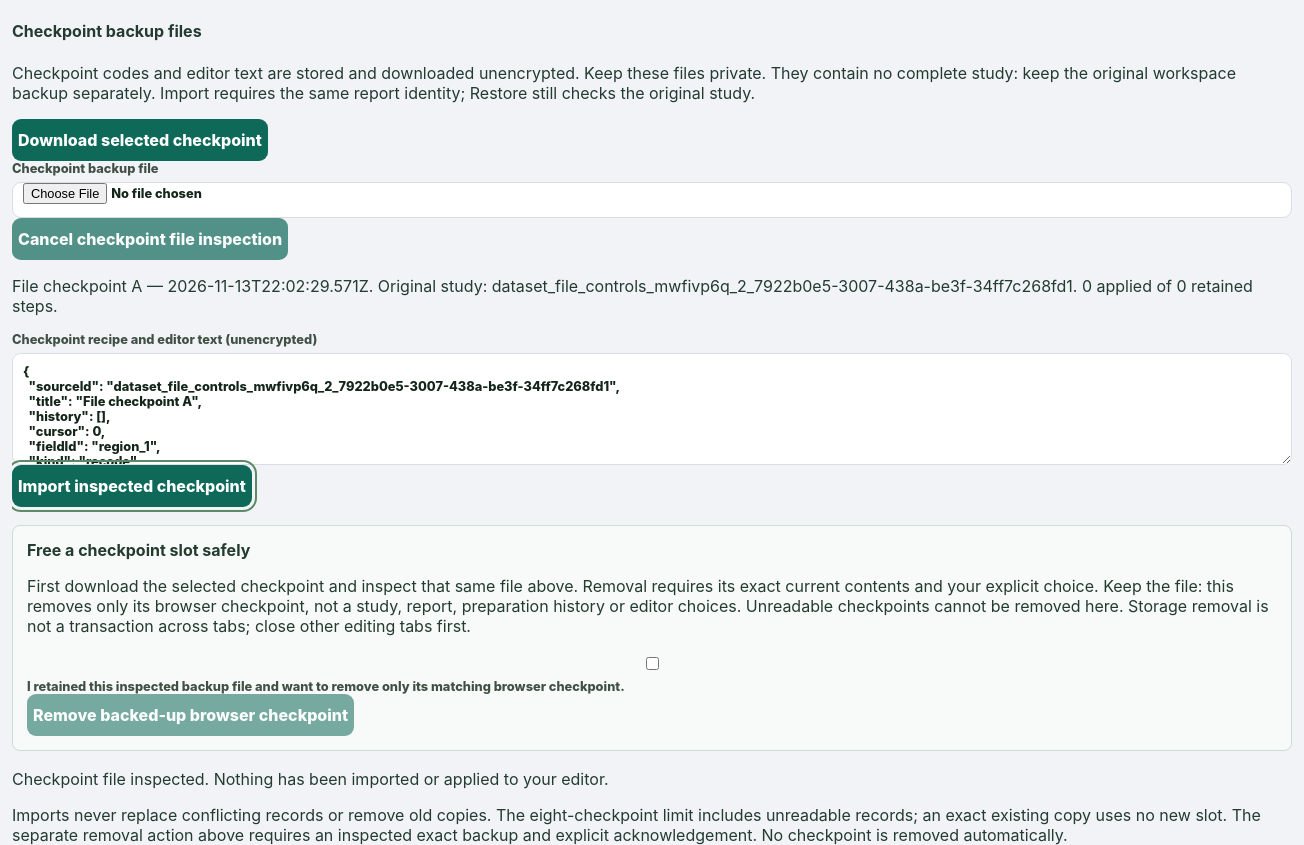
Test case: inspects a real File without automatic import, then imports a separate copy only on explicit action
Earlier steps of the test are not shown.
Step 1. Click the button "Import inspected checkpoint" → click(132, 486), box top-left (12, 464), bottom-right (252, 506)
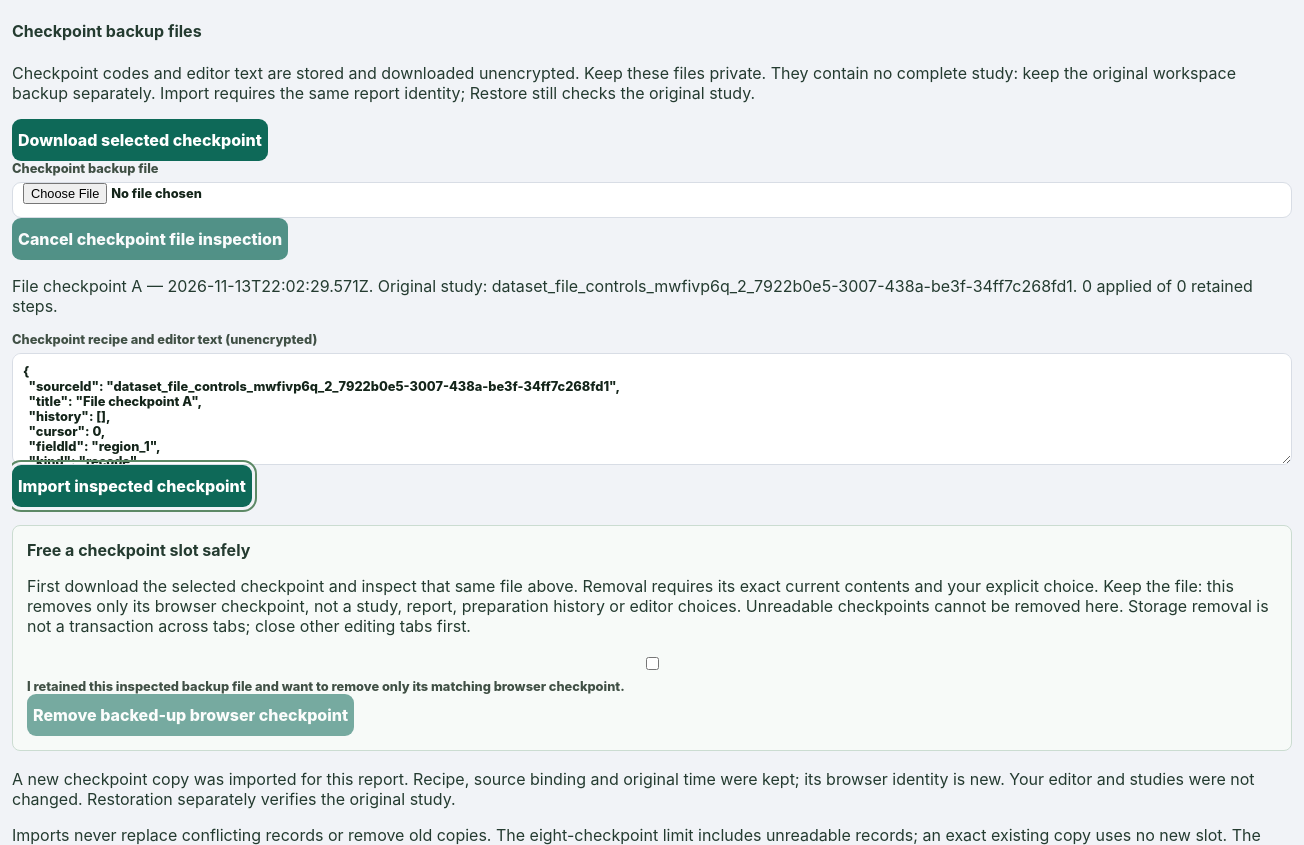
Step 2. Click the button "Import inspected checkpoint" → click(132, 486), box top-left (12, 464), bottom-right (252, 506)
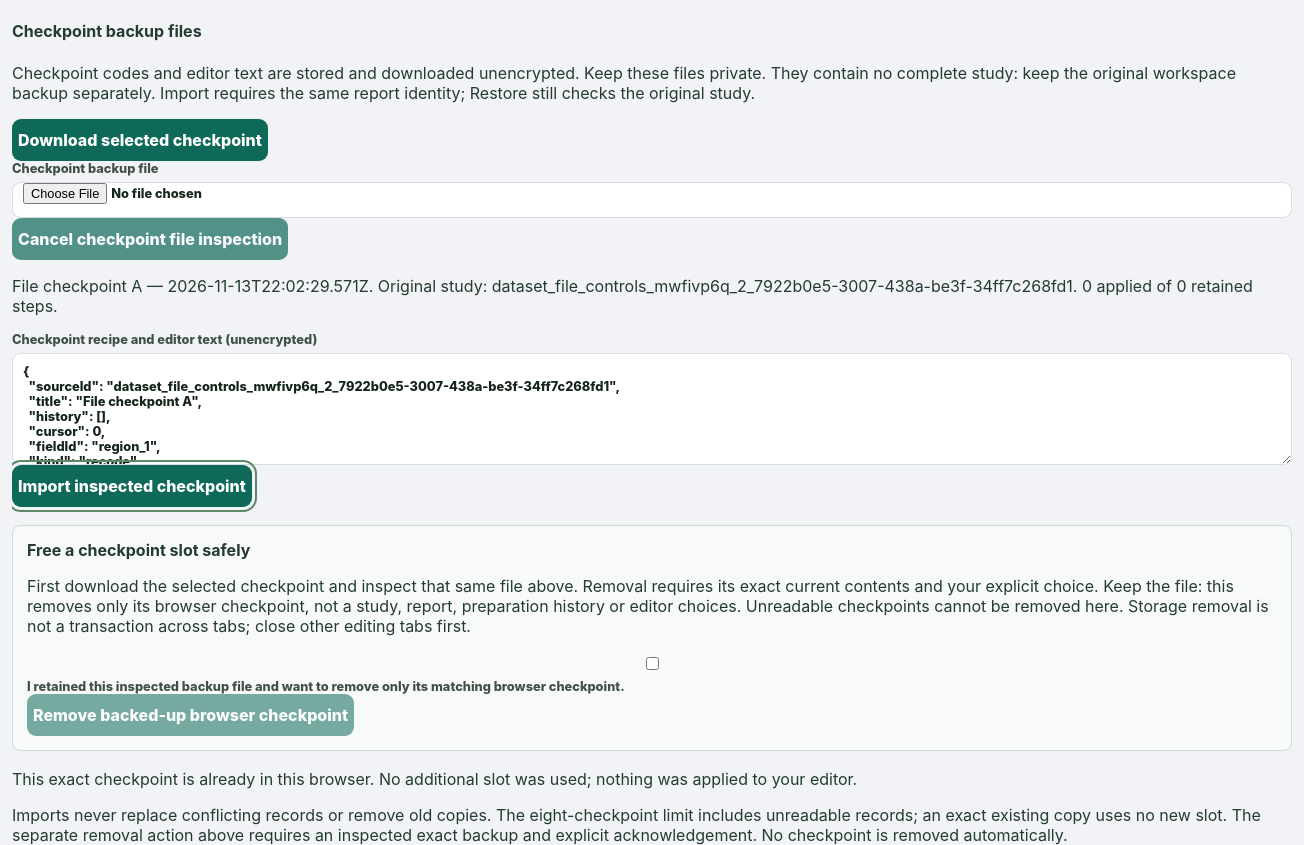
Check: the text "already in this browser" is shown, box top-left (12, 768), bottom-right (857, 788)
